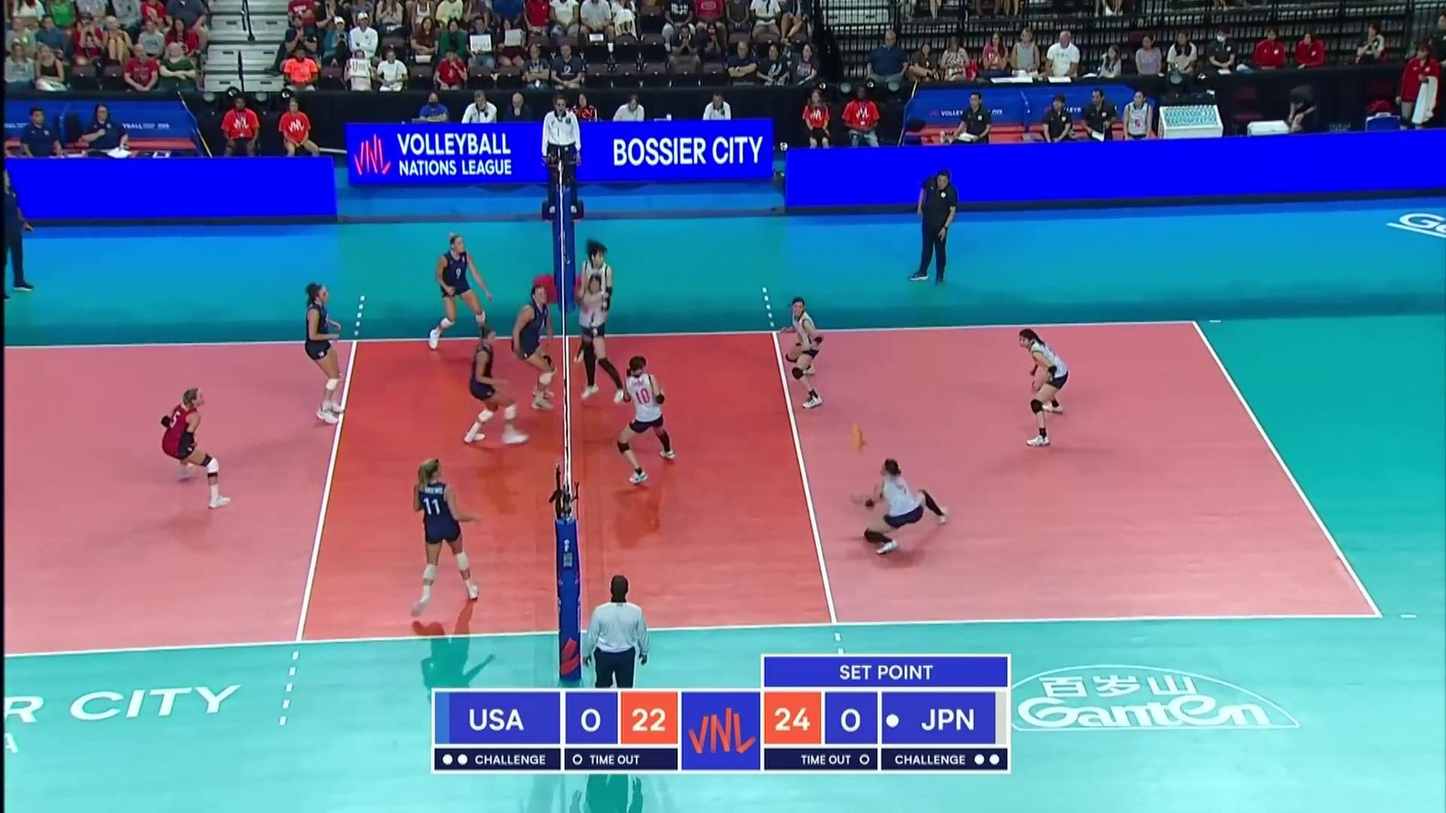player: (413, 454, 479, 615), (855, 457, 953, 553), (162, 389, 232, 509), (430, 233, 496, 352), (618, 354, 673, 484), (467, 325, 525, 448), (1012, 328, 1071, 446), (302, 279, 342, 434), (578, 270, 624, 400), (512, 289, 556, 407), (573, 242, 614, 365), (786, 298, 826, 414)
refree: (583, 576, 653, 688), (539, 95, 584, 212)
